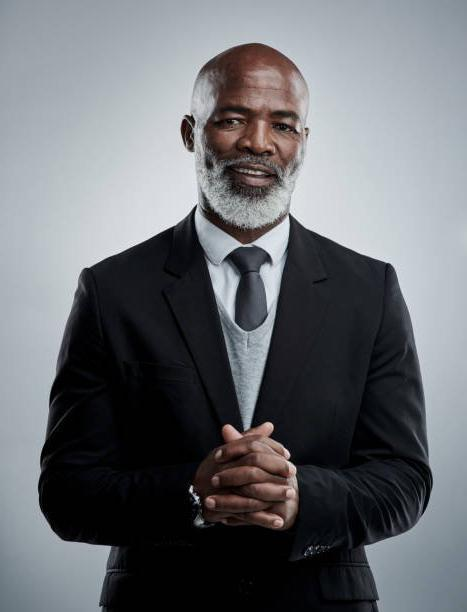Sober: (207, 70, 300, 210)
